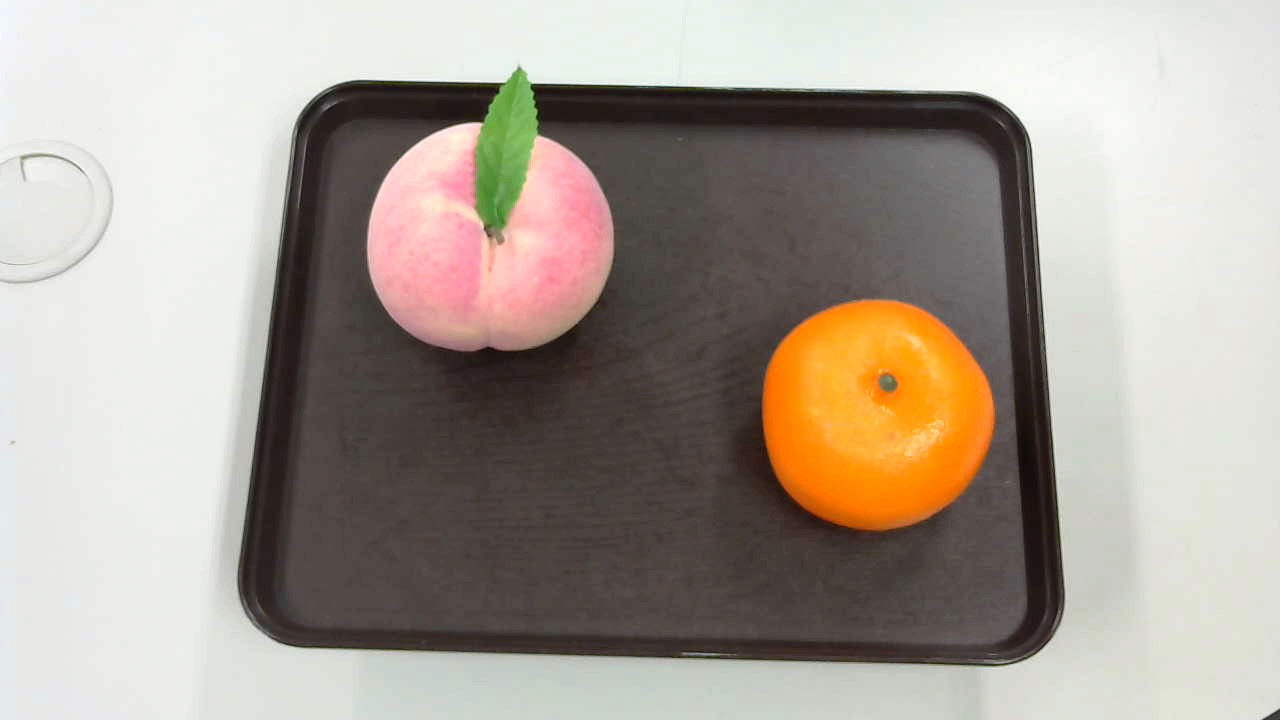orange: (752, 295, 998, 534)
peach: (363, 67, 621, 356)
